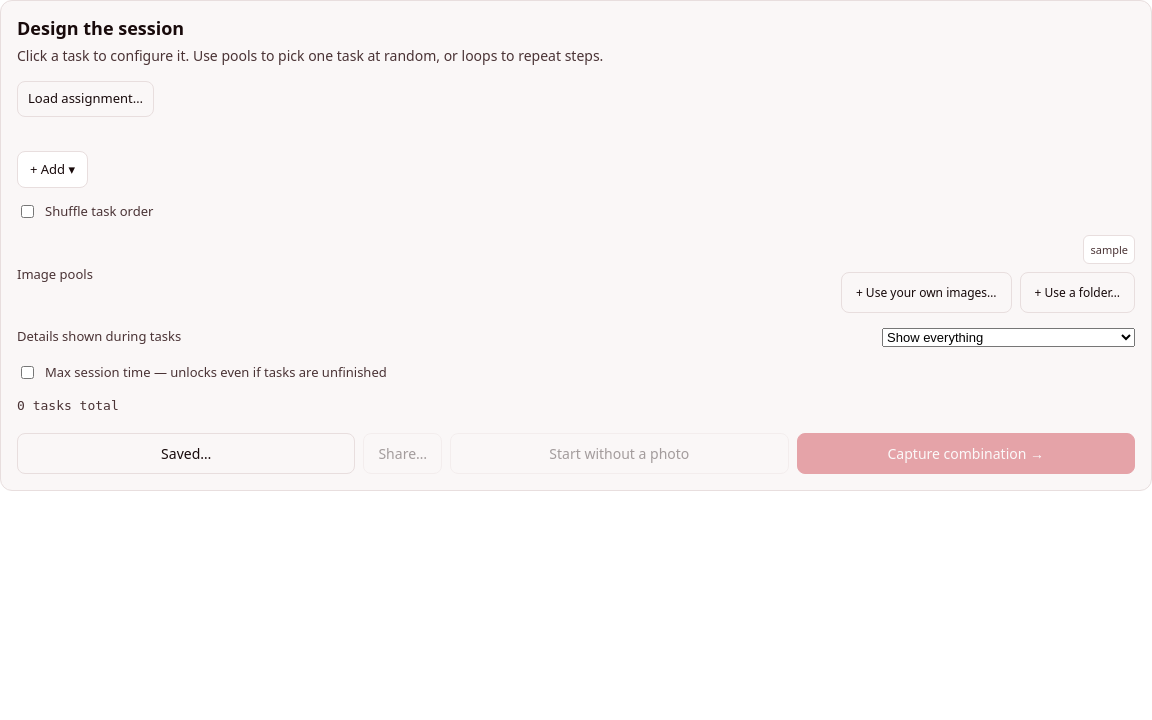
Test: FlowBuilder › adds a task row to the list after saving the editor
The width and height of the screenshot is (1152, 720).
Click the button "+ Add ▾" at [52, 169], box top-left (17, 151), bottom-right (88, 188)
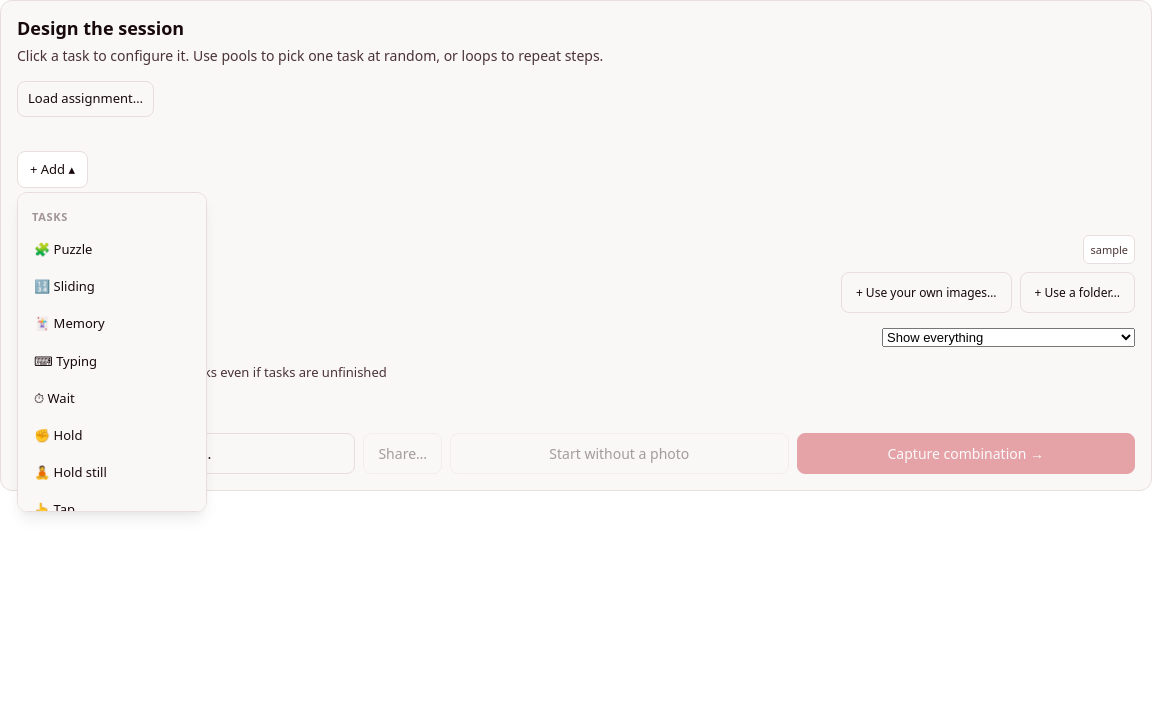
Click the button "⏱ Wait" at [112, 398], box top-left (24, 380), bottom-right (200, 417)
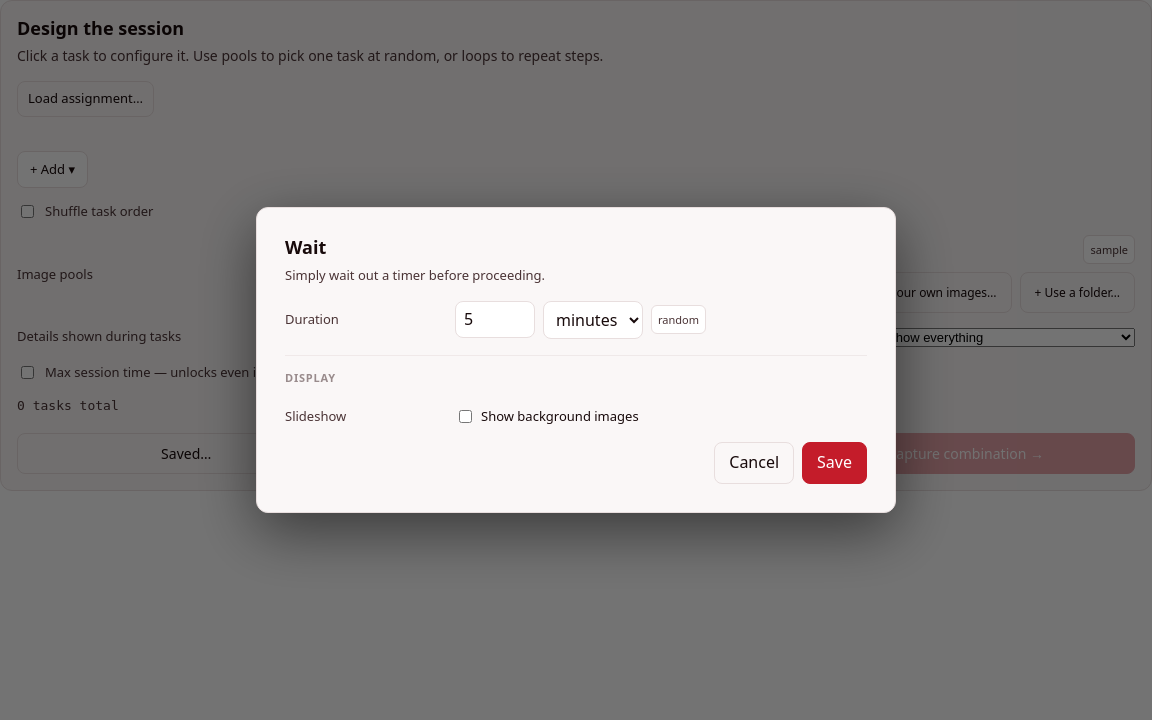
Click the button "Save" at [835, 463], box top-left (802, 442), bottom-right (867, 484)
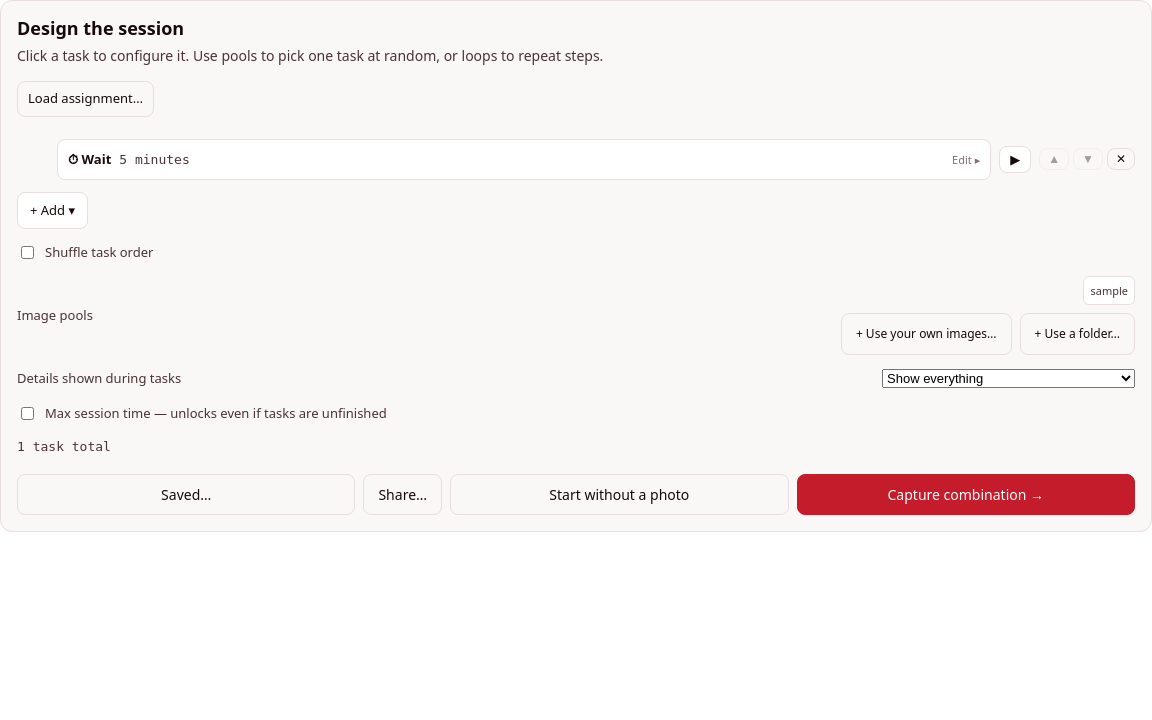
Check: the text "Edit ▸" is shown, box top-left (952, 148), bottom-right (980, 171)
